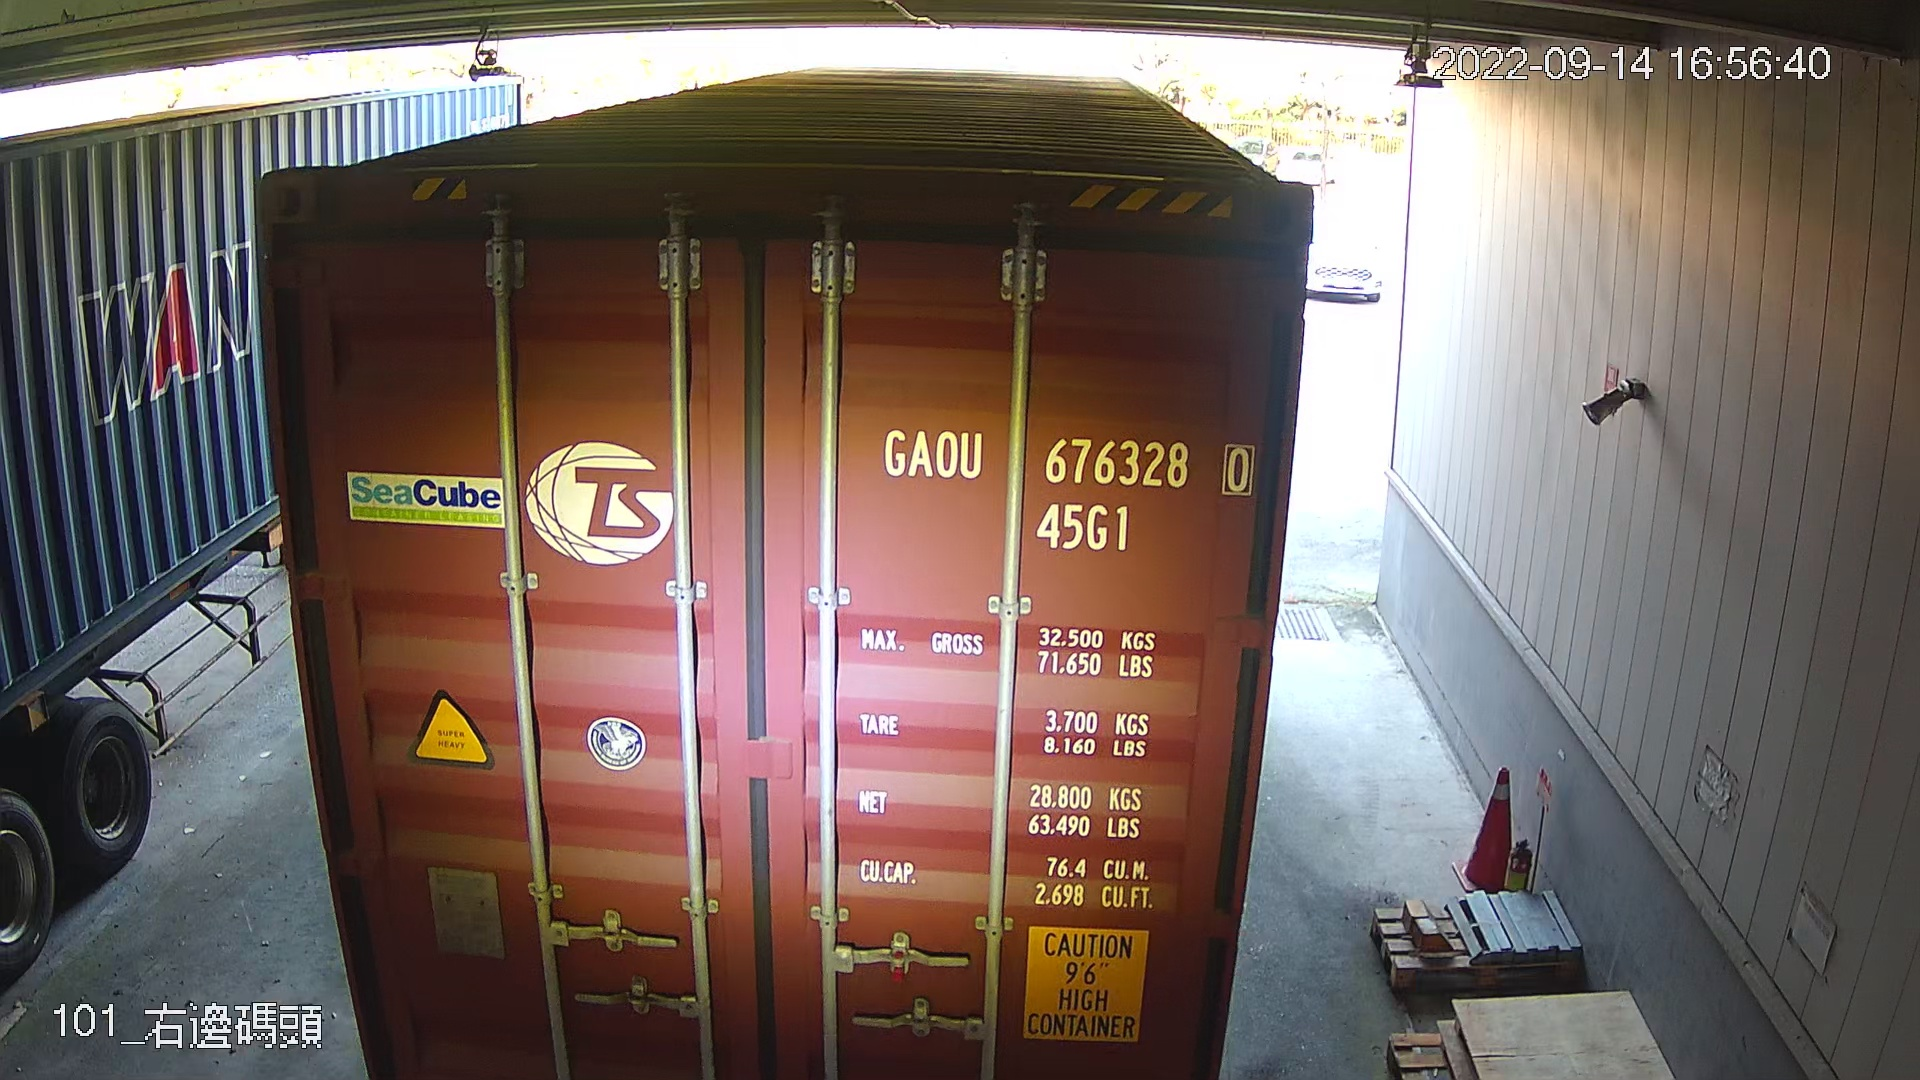container: (866, 417, 1270, 556)
